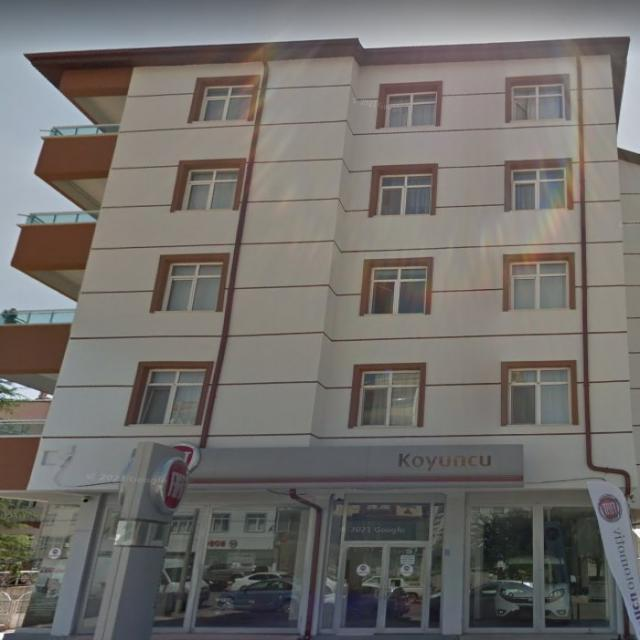Building: (0, 35, 640, 634)
